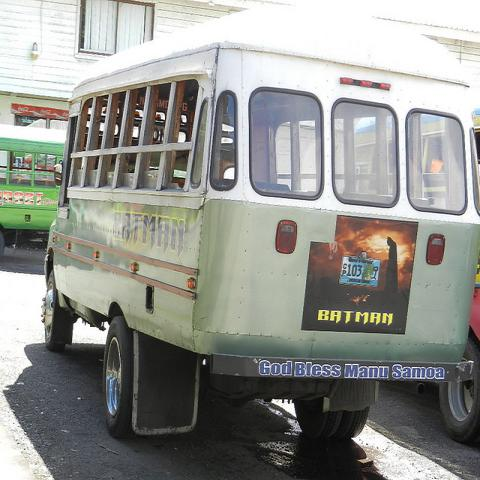bus: (40, 1, 479, 444), (437, 109, 479, 448), (1, 127, 67, 256)
